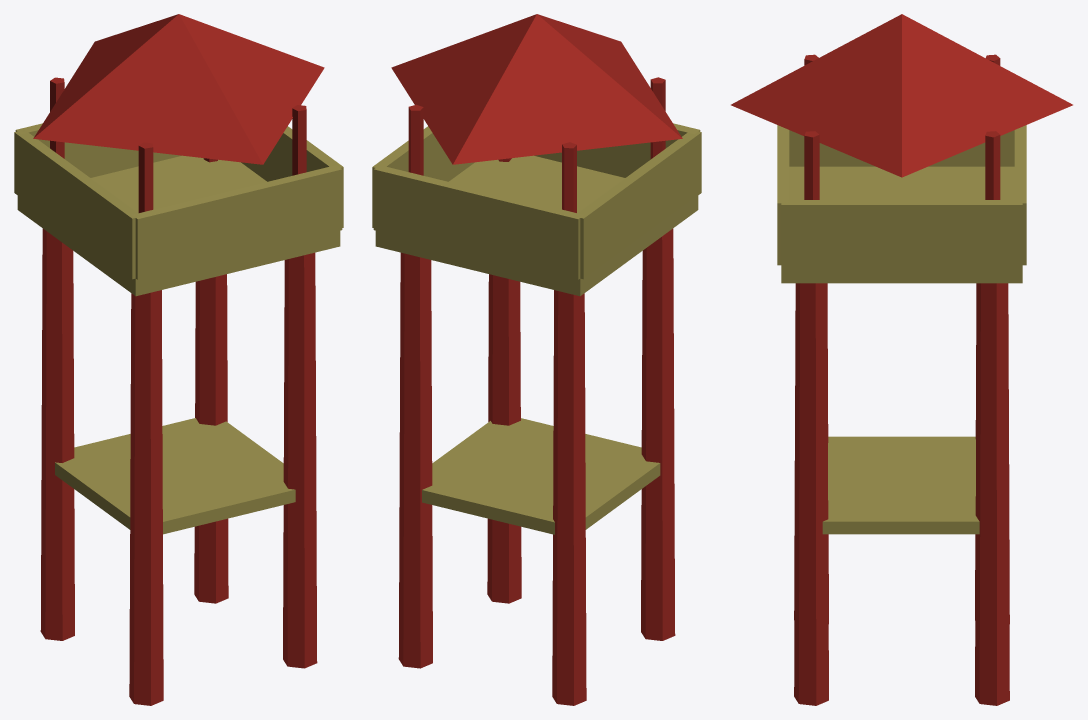
The model's file is macaque_tower.glb.
The picture shows the model from 3 angles, left to right: view 1: azimuth 30°, elevation 25°; view 2: azimuth 150°, elevation 25°; view 3: azimuth 270°, elevation 25°; orthographic projection. The views are drawn at different scales.
Visible parts, largest first — view 1: macaque_tower; view 2: macaque_tower; view 3: macaque_tower.
Part boxes in pixels (<box>): macaque_tower: <box>14,14,343,705</box>; macaque_tower: <box>372,14,701,705</box>; macaque_tower: <box>731,14,1072,705</box>.
Size of the model in its own units: 1.71 by 3.55 by 1.71.
